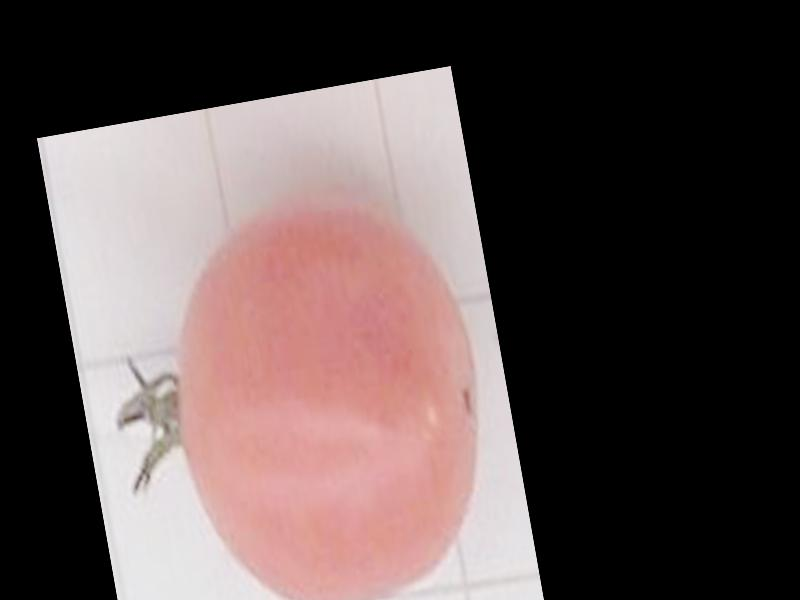Tomato: (146, 175, 512, 600)
